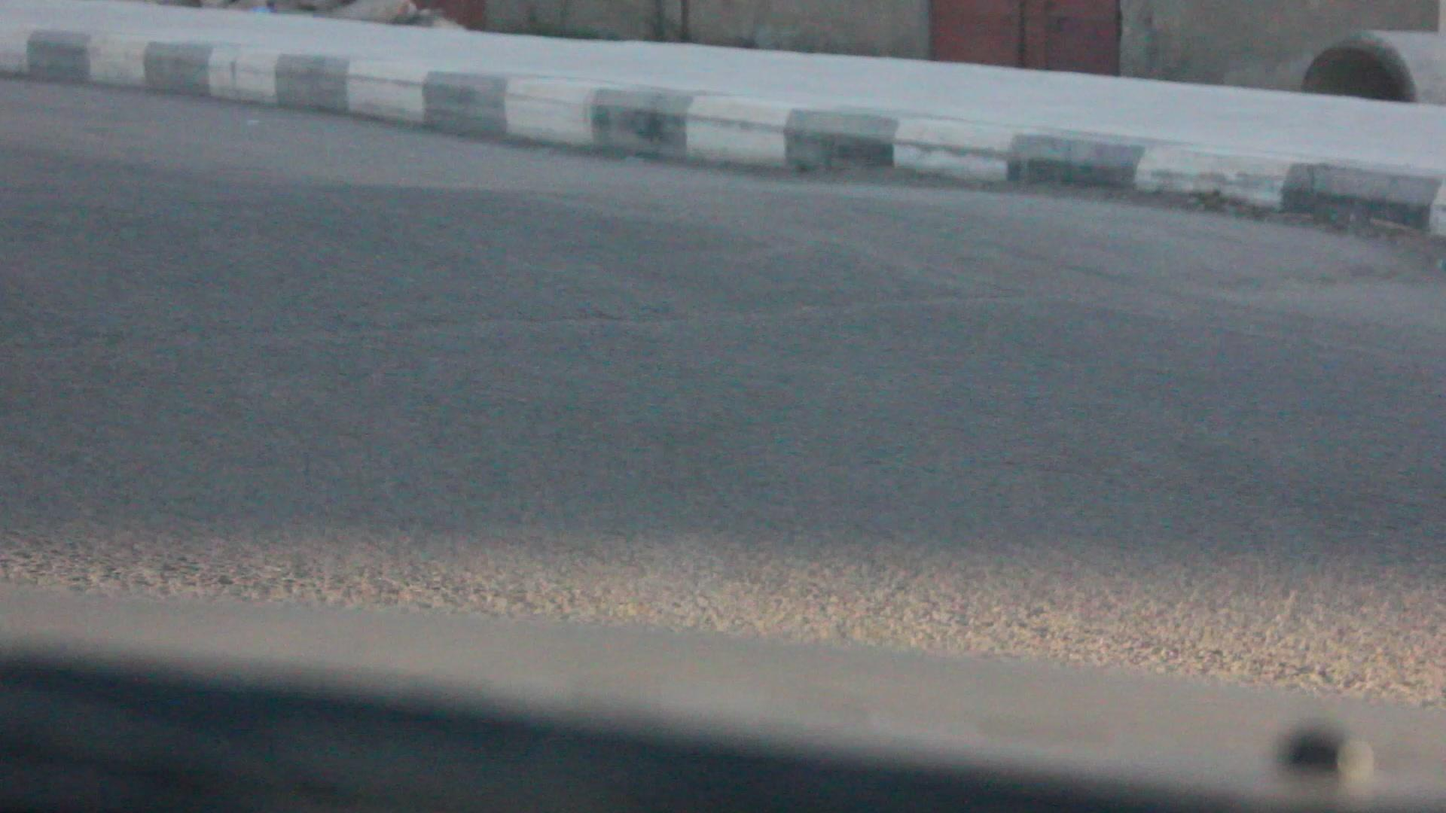Bump: (0, 143, 1429, 343)
